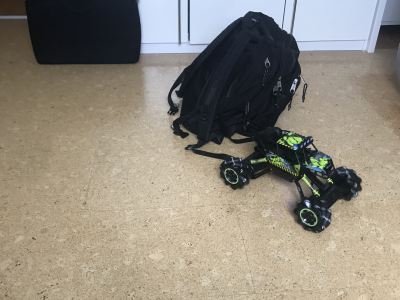remote control car: (219, 123, 364, 235)
